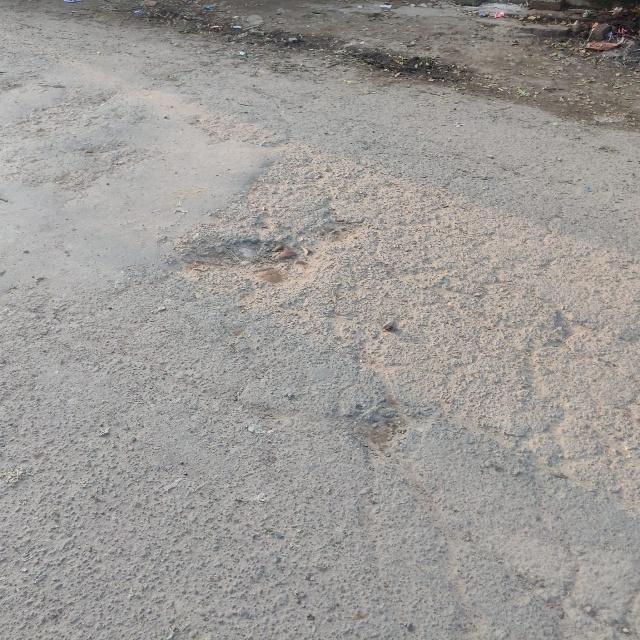Surface Erosion: (0, 34, 640, 584)
